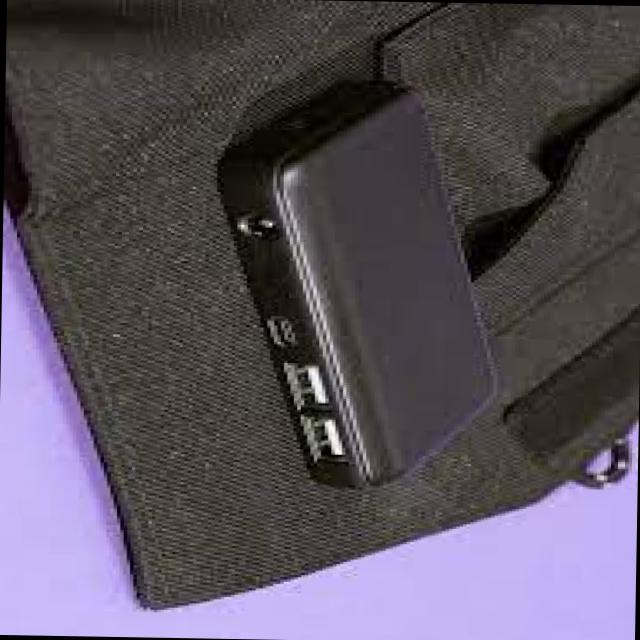power_bank: (206, 80, 503, 492)
